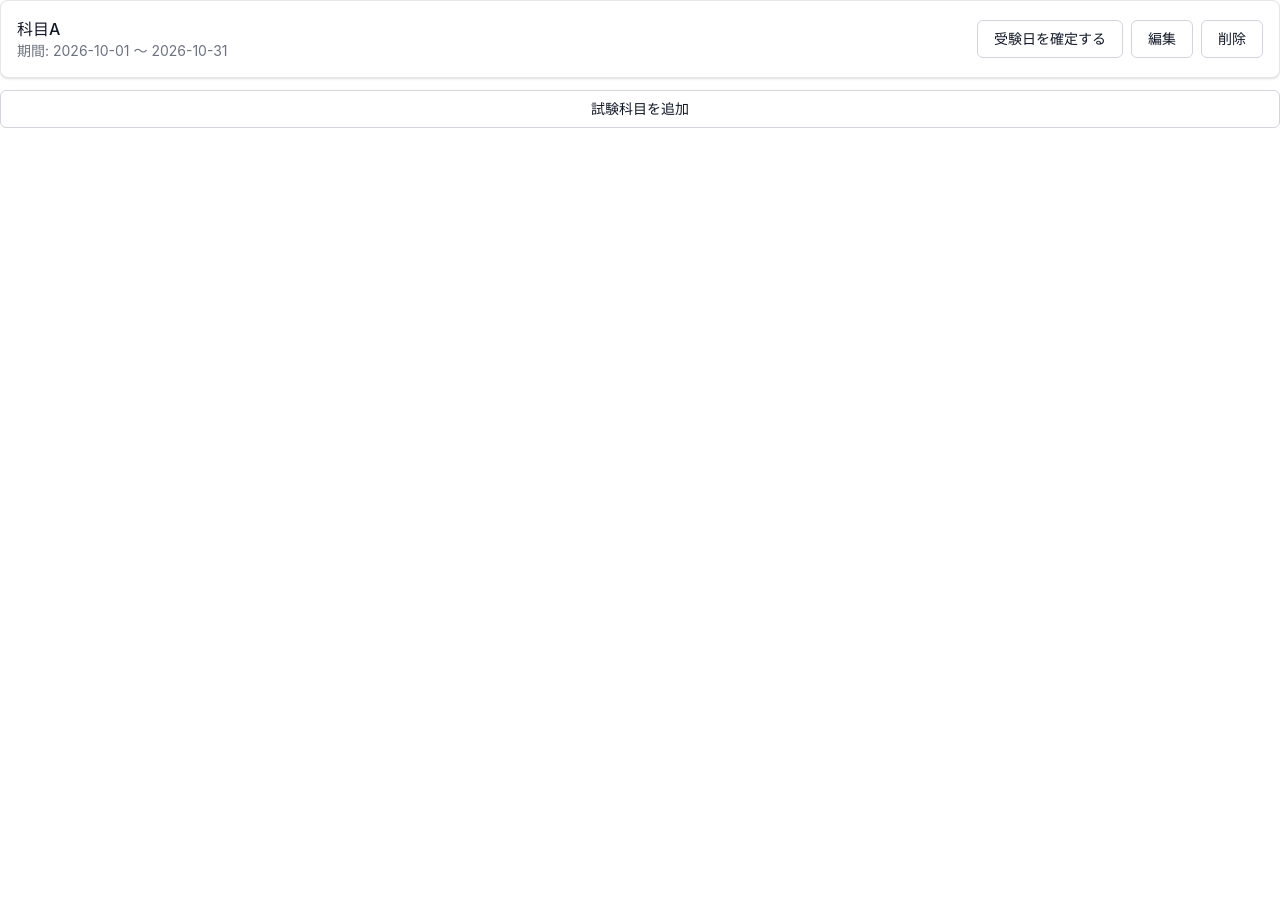
Test: SubjectsTab の取り消せない操作 › closes the fix date dialog without sending anything on cancel
The image size is (1280, 900).
Click the button "受験日を確定する" at [1050, 39], box [977,20,1123,58]
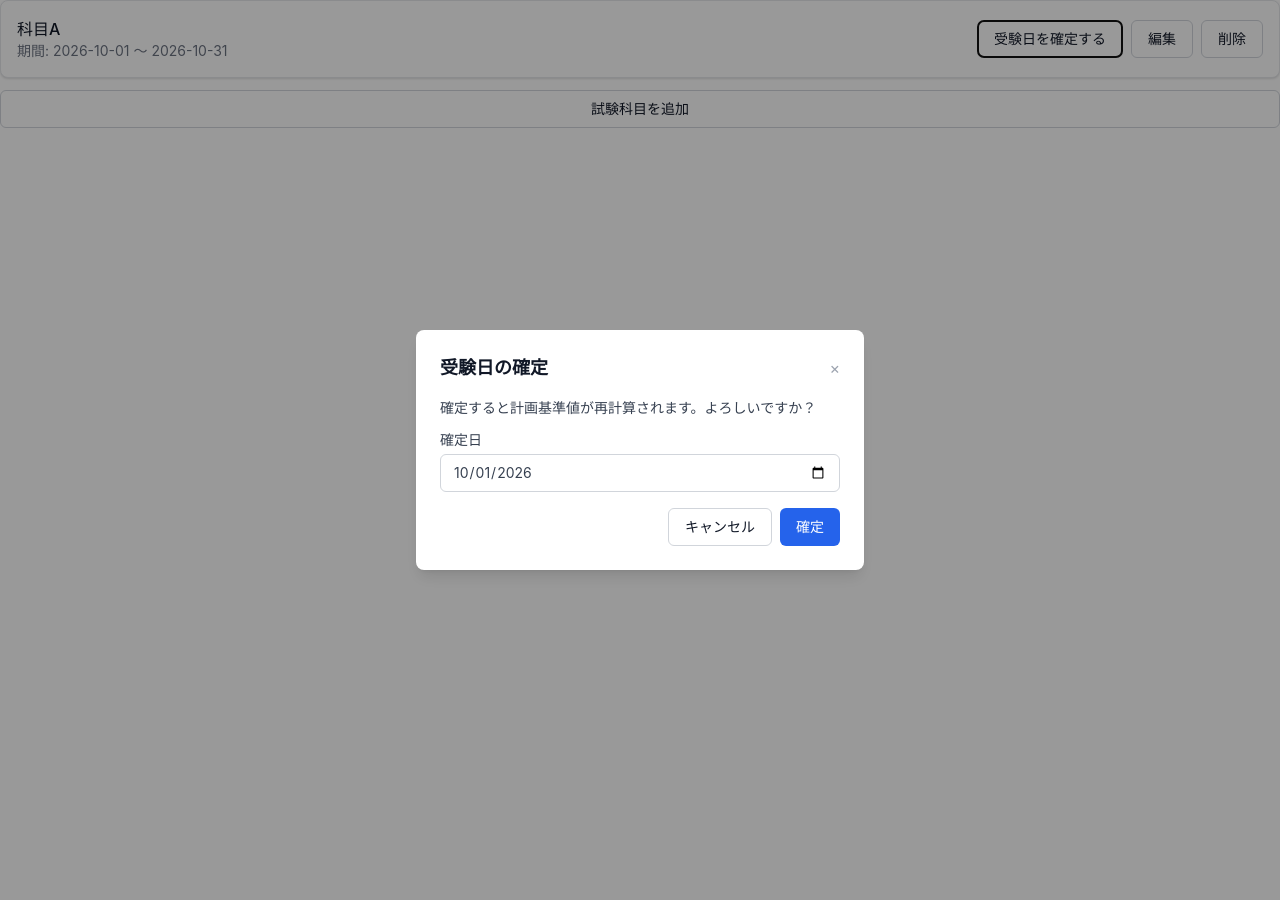
Click the button "キャンセル" at [720, 527], box [668,508,772,546]
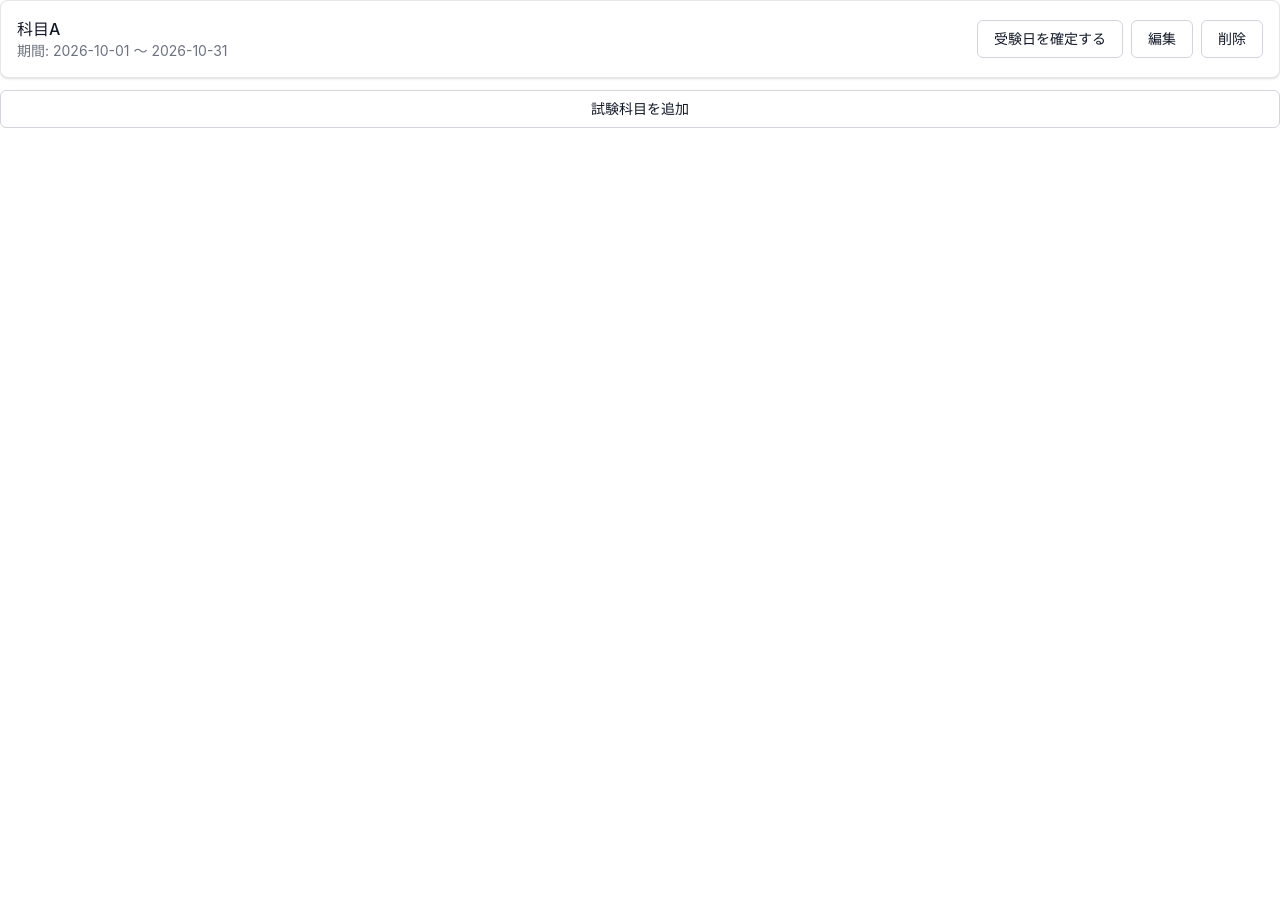
Result: the text "確定すると計画基準値が再計算されます。よろしいですか？" is gone
